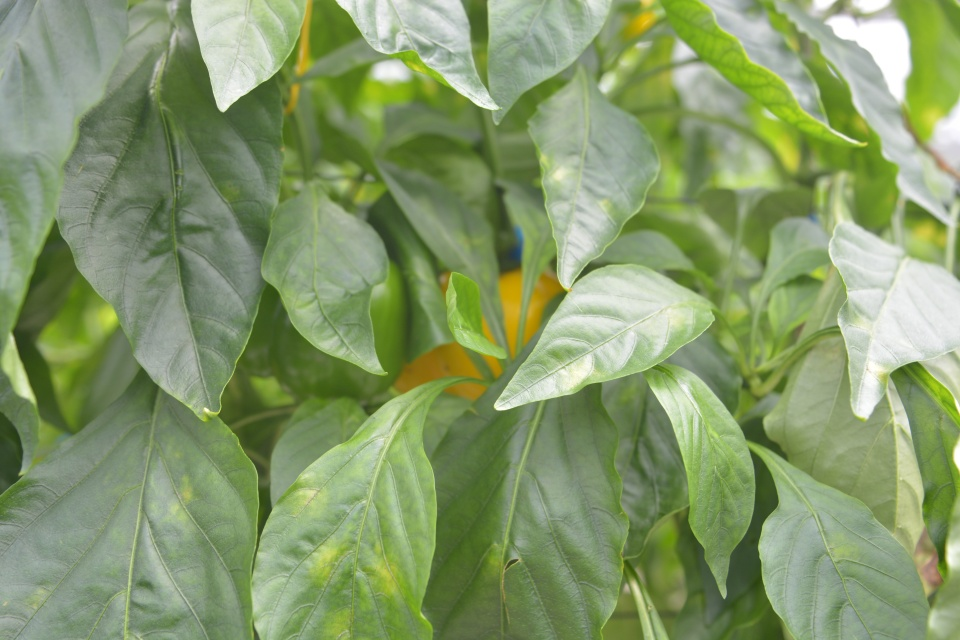fruit: (234, 254, 410, 405), (389, 261, 568, 403)
